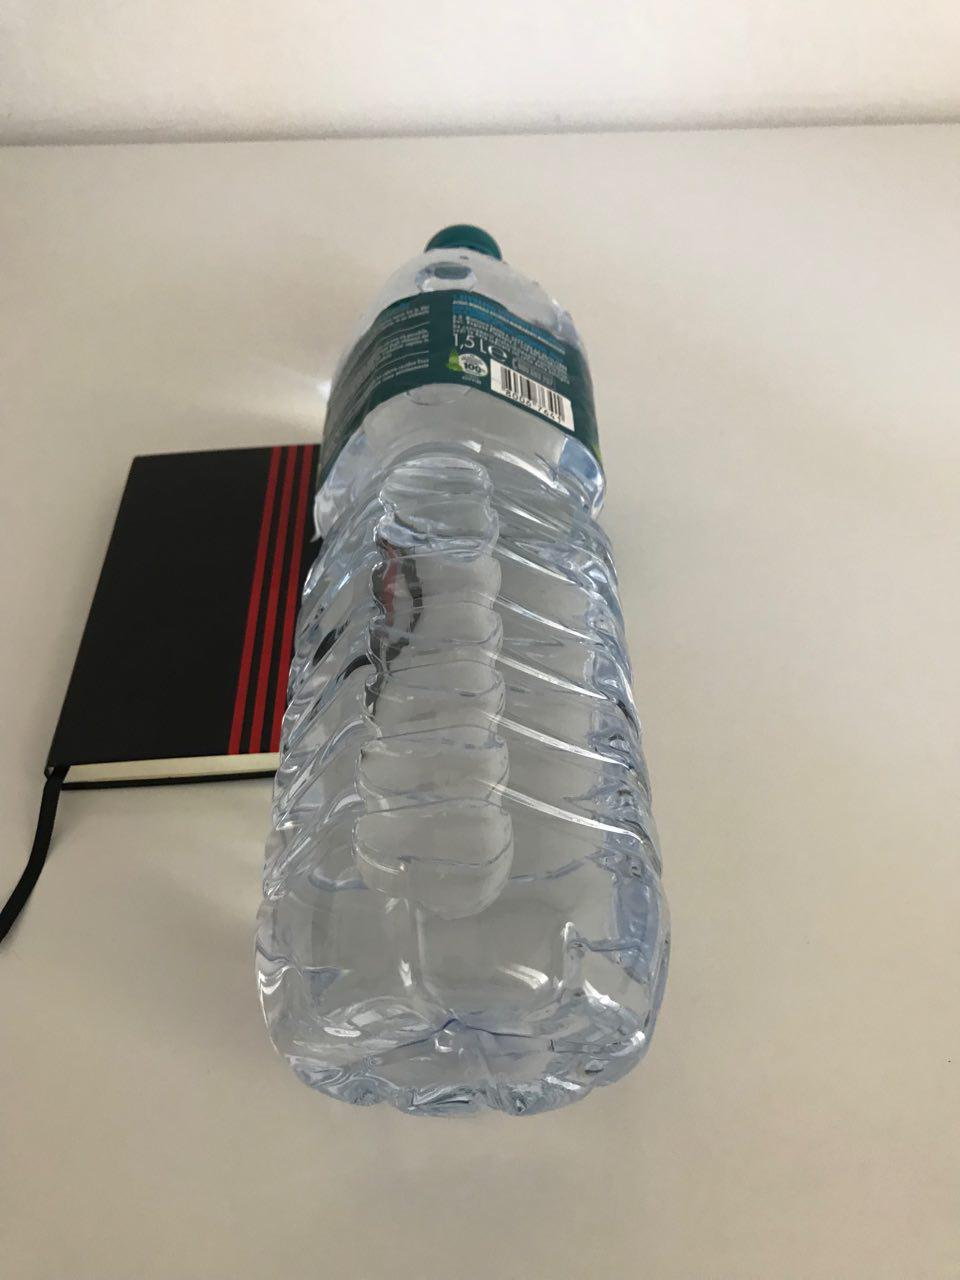san_bernardo: (250, 220, 673, 1123)
